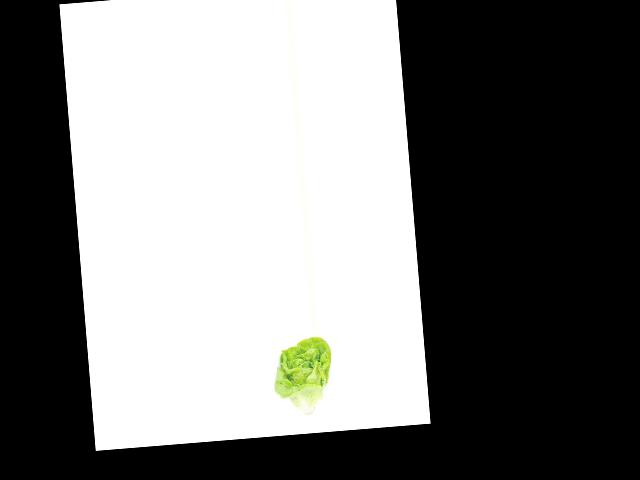lettuce: (266, 335, 337, 419)
